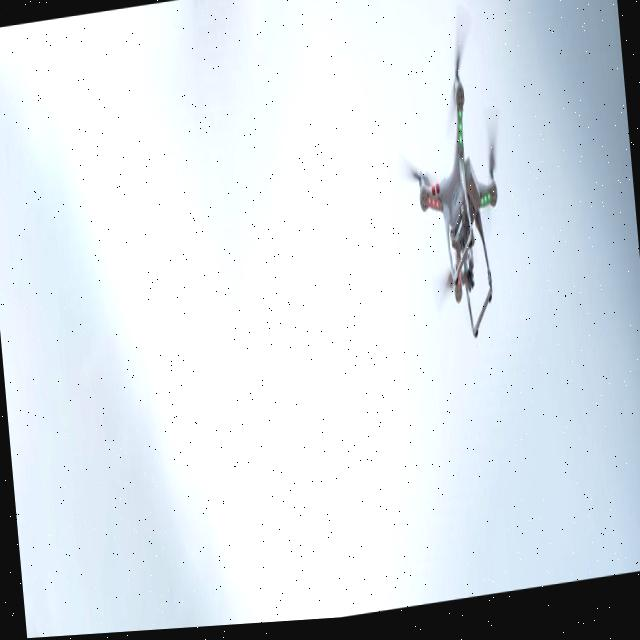drone: (374, 0, 540, 410)
